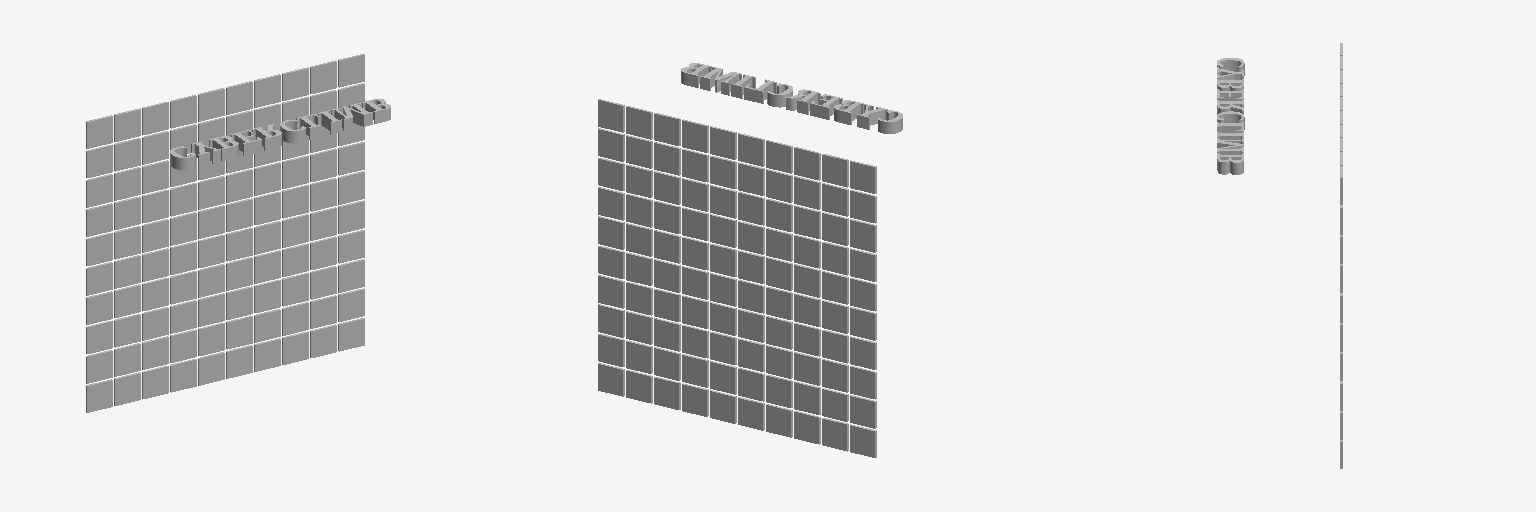
The model's file is tablero.obj.
3 views of the same model, side by side, from view 1: azimuth 30°, elevation 25°; view 2: azimuth 150°, elevation 25°; view 3: azimuth 270°, elevation 25° (orthographic).
Parts seen in each view (by area): view 1: obj_100, obj_1, obj_4, obj_10, obj_16, obj_17, obj_22, obj_29, obj_31, obj_34, obj_40, obj_46 (+28 smaller); view 2: obj_100, obj_4, obj_5, obj_10, obj_16, obj_17, obj_22, obj_23, obj_29, obj_34, obj_35, obj_40 (+28 smaller); view 3: obj_100.
Boxes of the visible parts, <box> form: obj_100: <box>170,99,390,169</box>; obj_1: <box>114,372,140,405</box>; obj_4: <box>198,352,224,385</box>; obj_10: <box>86,350,112,383</box>; obj_16: <box>254,309,280,342</box>; obj_17: <box>282,302,308,335</box>; obj_22: <box>142,307,168,340</box>; obj_29: <box>338,259,364,292</box>; obj_31: <box>114,284,140,317</box>; obj_34: <box>198,264,224,297</box>; obj_40: <box>86,262,112,295</box>; obj_46: <box>254,221,280,254</box>; obj_100: <box>681,63,902,133</box>; obj_4: <box>738,397,764,430</box>; obj_5: <box>710,390,736,423</box>; obj_10: <box>850,395,876,428</box>; obj_16: <box>682,354,708,387</box>; obj_17: <box>654,347,680,380</box>; obj_22: <box>794,352,820,385</box>; obj_23: <box>766,345,792,378</box>; obj_29: <box>598,304,624,337</box>; obj_34: <box>738,309,764,342</box>; obj_35: <box>710,302,736,335</box>; obj_40: <box>850,307,876,340</box>; obj_100: <box>1217,58,1244,174</box>.
Bounding box in the file's own units: 238 × 238 × 93.38.